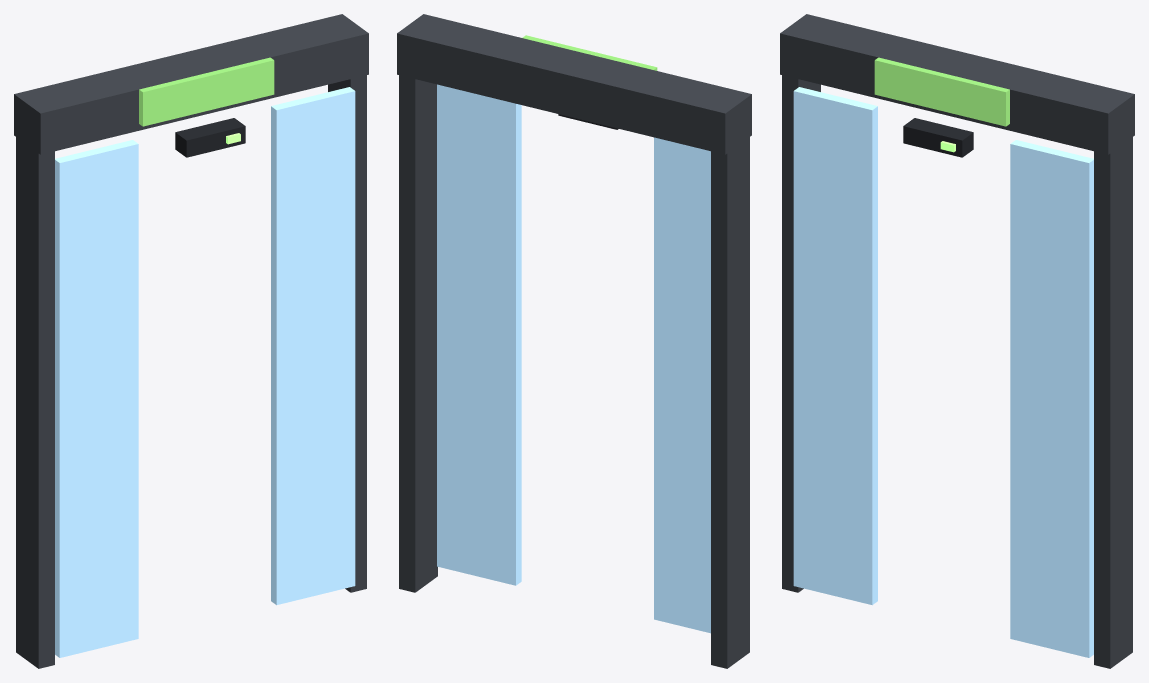
The model's file is glass_doors.glb.
3 views of the same model, side by side, from view 1: azimuth 30°, elevation 25°; view 2: azimuth 150°, elevation 25°; view 3: azimuth 330°, elevation 25° (orthographic).
Parts seen in each view (by area): view 1: glass_doors_mesh; view 2: glass_doors_mesh; view 3: glass_doors_mesh.
Boxes of the visible parts, x1,y1,x2,y2 form: glass_doors_mesh: (14,14,368,668); glass_doors_mesh: (397,14,751,668); glass_doors_mesh: (780,14,1134,668).
Size of the model in its own units: 1 by 1.62 by 0.21.
